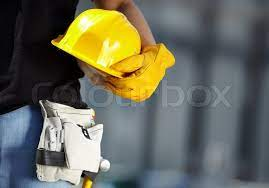Helmet: (55, 9, 138, 73)
gloves: (119, 53, 172, 105)
